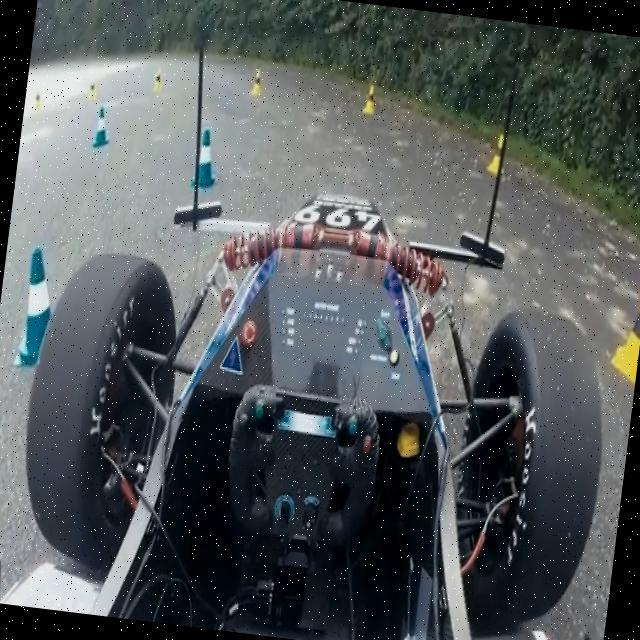blue_cone: (4, 234, 81, 364), (181, 102, 235, 193), (88, 99, 119, 158)
yellow_cone: (602, 273, 640, 387), (476, 107, 514, 187), (354, 68, 386, 121)
